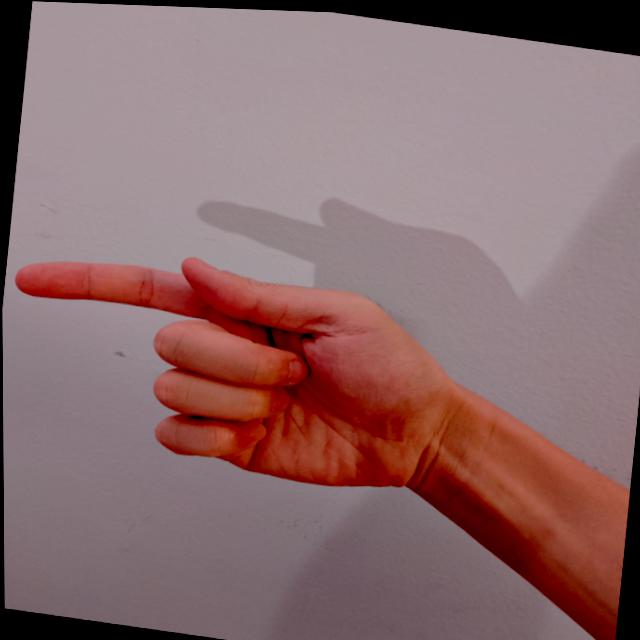G: (1, 224, 465, 508)
